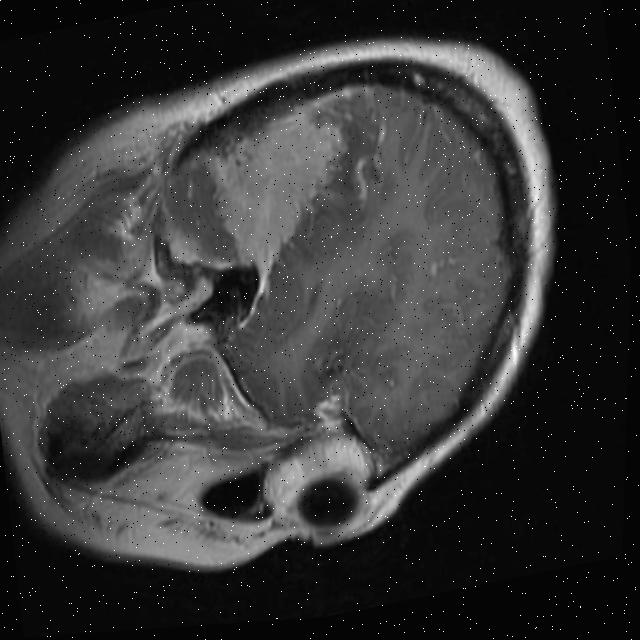Meningioma: (199, 106, 363, 292)
